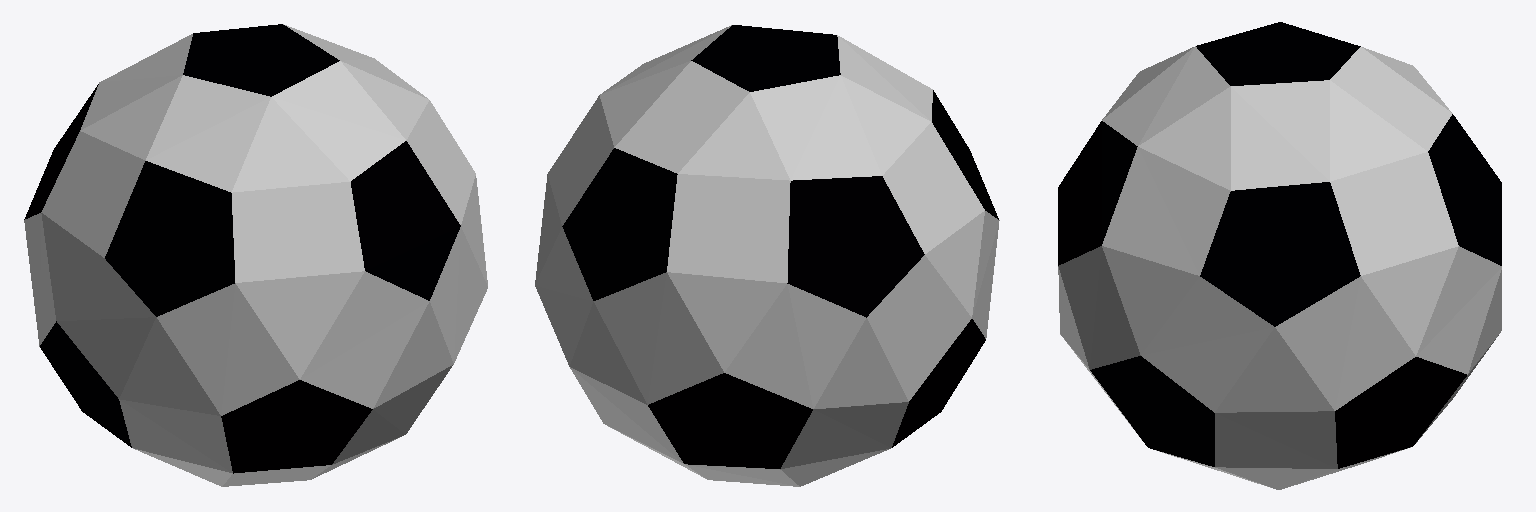
Rendered from SoccerBall.obj.
3 renders of one model, left to right at view 1: azimuth 30°, elevation 25°; view 2: azimuth 150°, elevation 25°; view 3: azimuth 270°, elevation 25°, orthographic.
Parts seen in each view (by area): view 1: soccer-ball; view 2: soccer-ball; view 3: soccer-ball.
Boxes of the visible parts, x1=… form: soccer-ball: x1=24, y1=24, x2=487, y2=486; soccer-ball: x1=535, y1=25, x2=999, y2=486; soccer-ball: x1=1058, y1=22, x2=1501, y2=489.
Bounding box in the file's own units: 0.258 × 0.2456 × 0.2462.